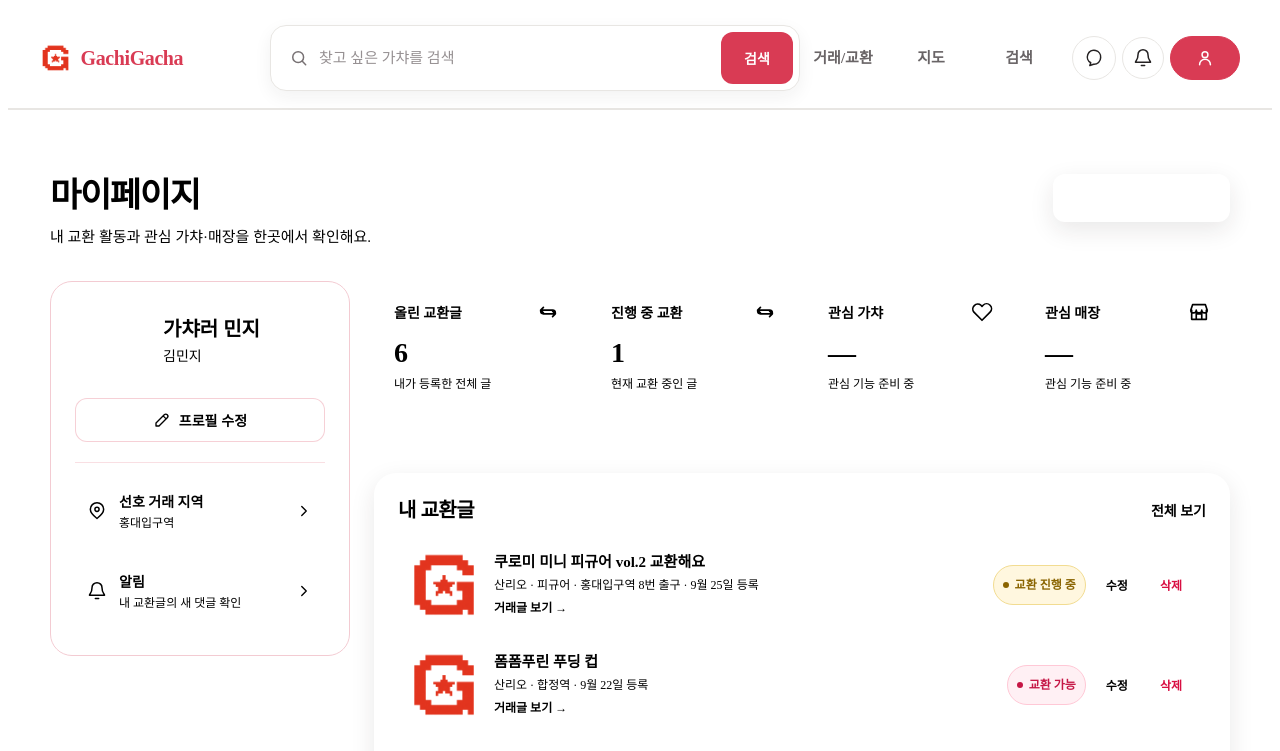
Test case: MyPageRoute 내 교환글 삭제 › 삭제를 확인하면 해당 글을 삭제하고 내 교환글을 다시 불러온다
This screenshot has width=1280, height=751.
Click the button with aria-label "쿠로미 미니 피규어 vol.2 교환해요 삭제" at (1171, 585), box [1148, 569, 1194, 601]
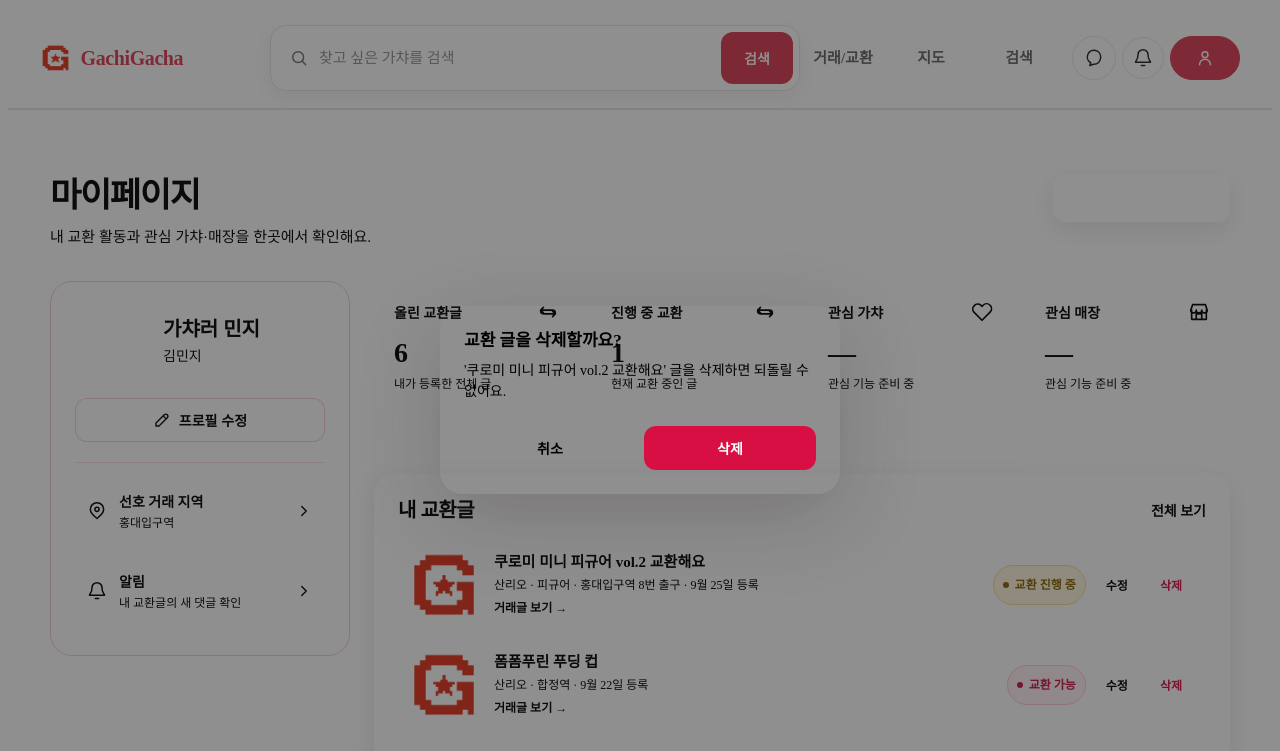
Click the button "삭제" at (730, 448), box [644, 426, 816, 470]
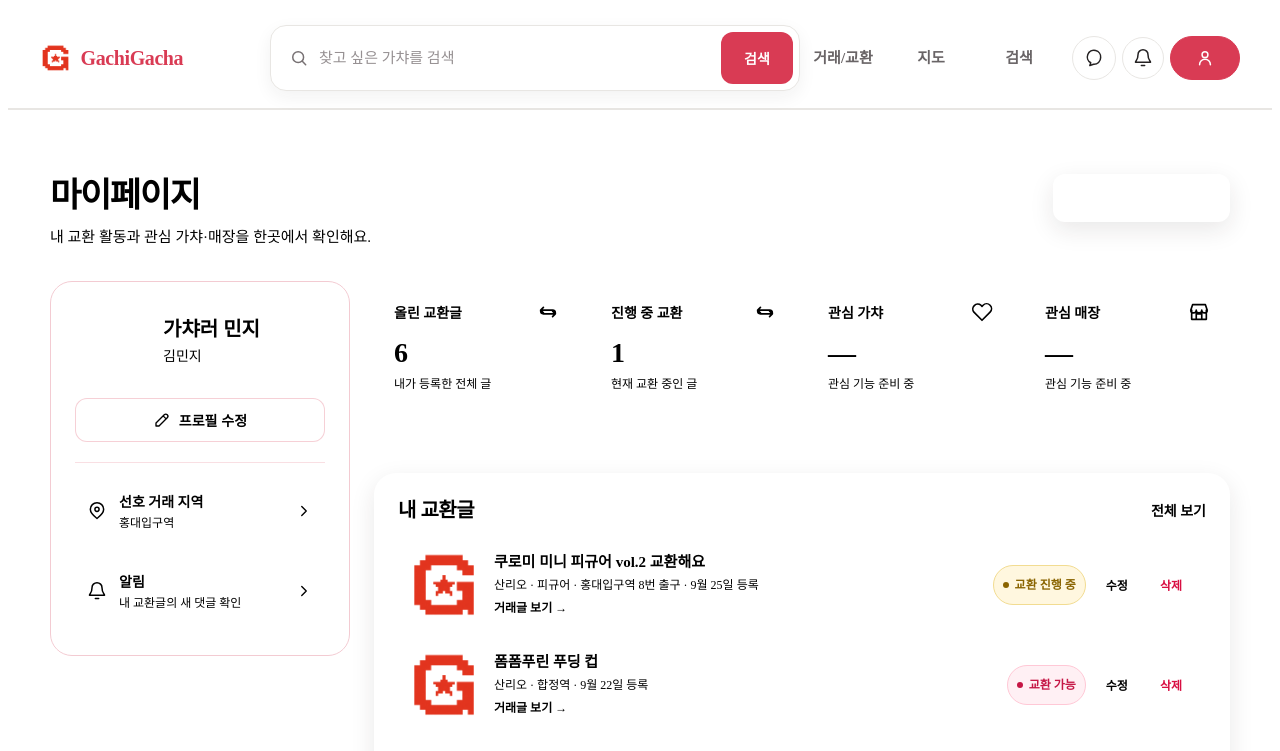
Expected: the dialog is gone
